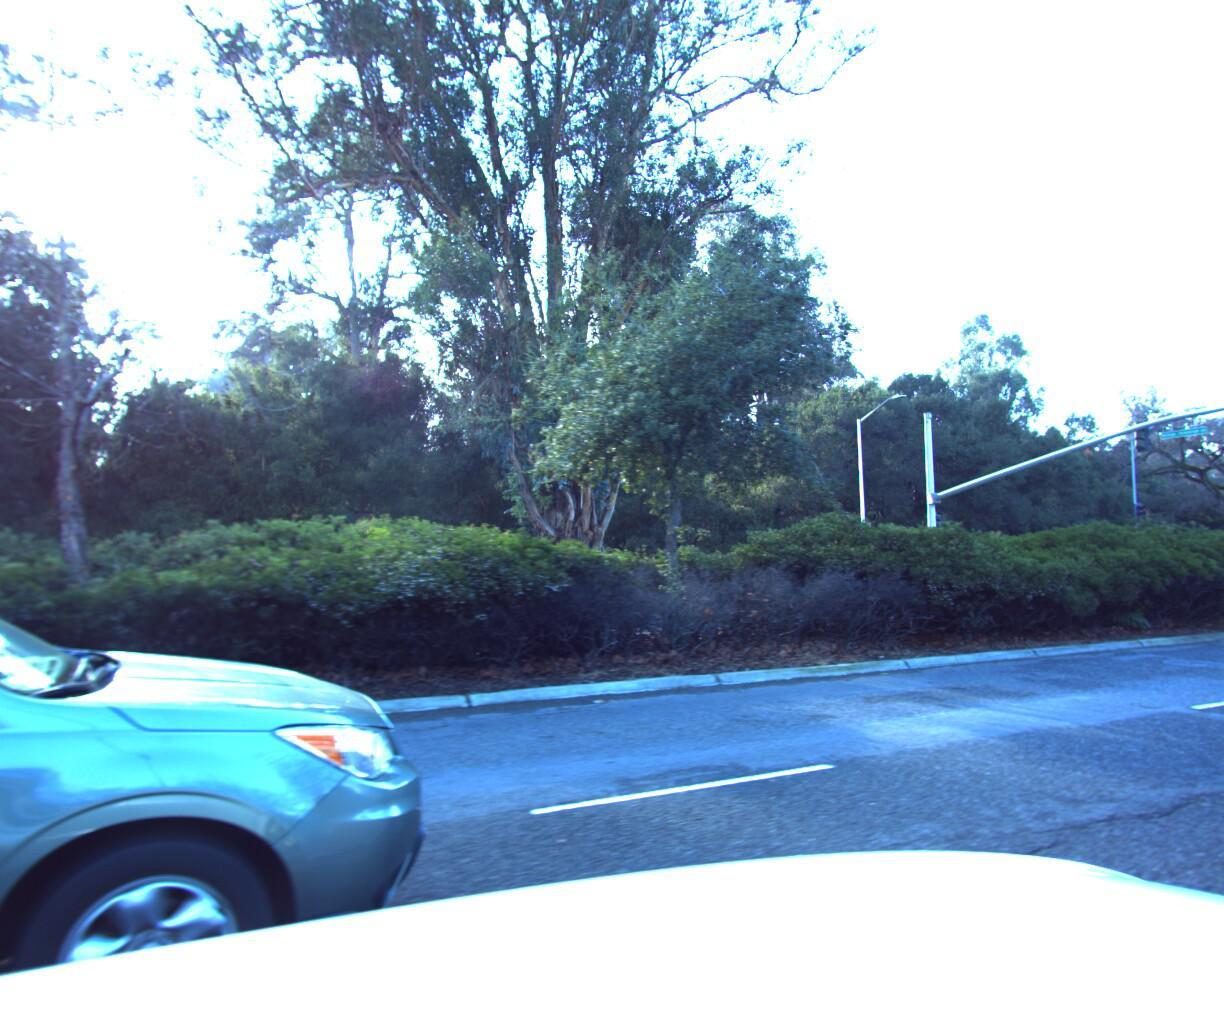car: (0, 428, 487, 1024)
